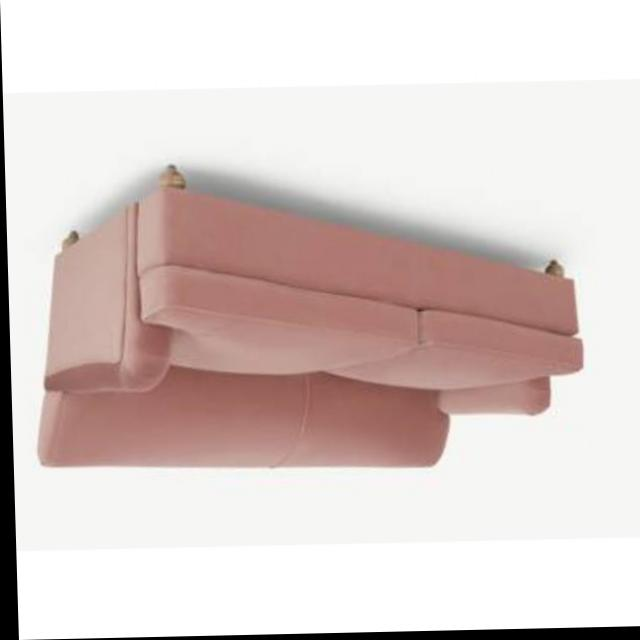Sofa: (27, 154, 585, 482)
